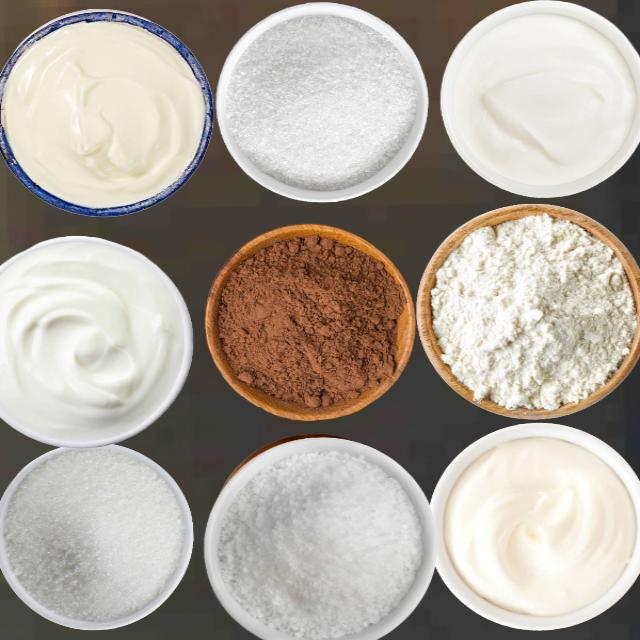Cocoa: (216, 232, 403, 409)
Flour: (429, 211, 637, 411)
Sugar: (216, 449, 422, 638), (224, 12, 417, 190), (1, 445, 184, 623)
